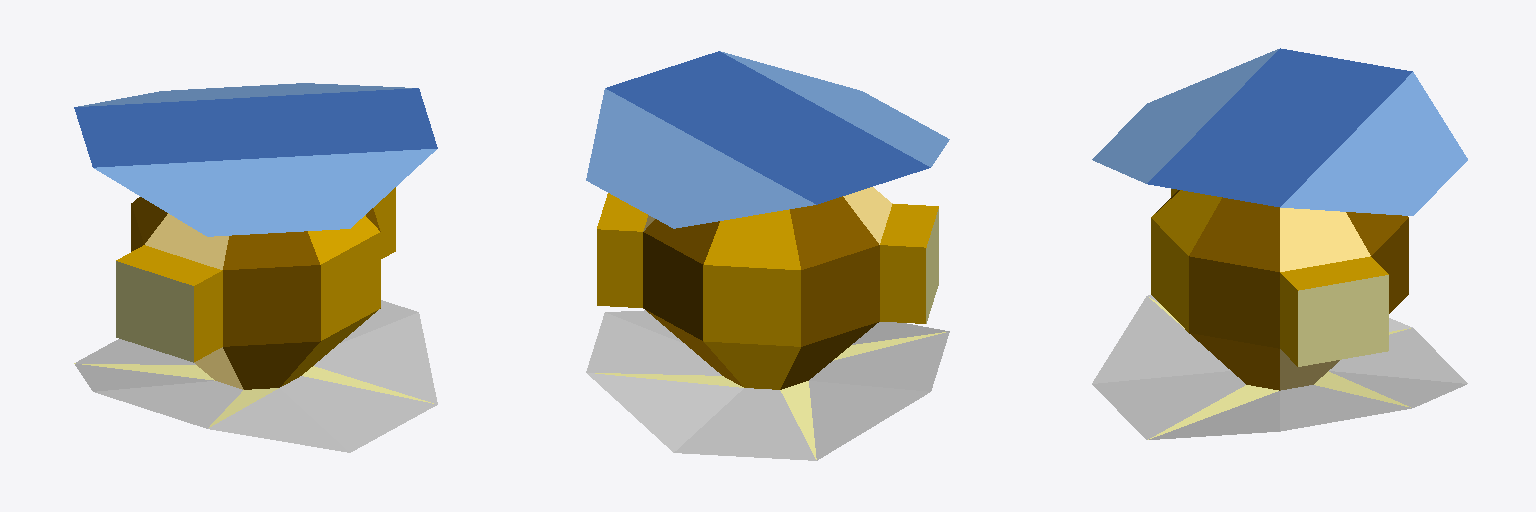
Rendered from sat.obj.
3 views of the same model, side by side, from view 1: azimuth 30°, elevation 25°; view 2: azimuth 150°, elevation 25°; view 3: azimuth 270°, elevation 25° (orthographic).
Visible parts, largest first — view 1: Cylinder1; view 2: Cylinder1; view 3: Cylinder1.
Part boxes in pixels (left/top/right/bottom): Cylinder1: left=74, top=83, right=437, bottom=452; Cylinder1: left=586, top=51, right=949, bottom=460; Cylinder1: left=1092, top=48, right=1467, bottom=439.
Size of the model in its own units: 2 by 1.5 by 2.